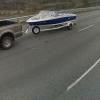Boat: (25, 6, 78, 37)
